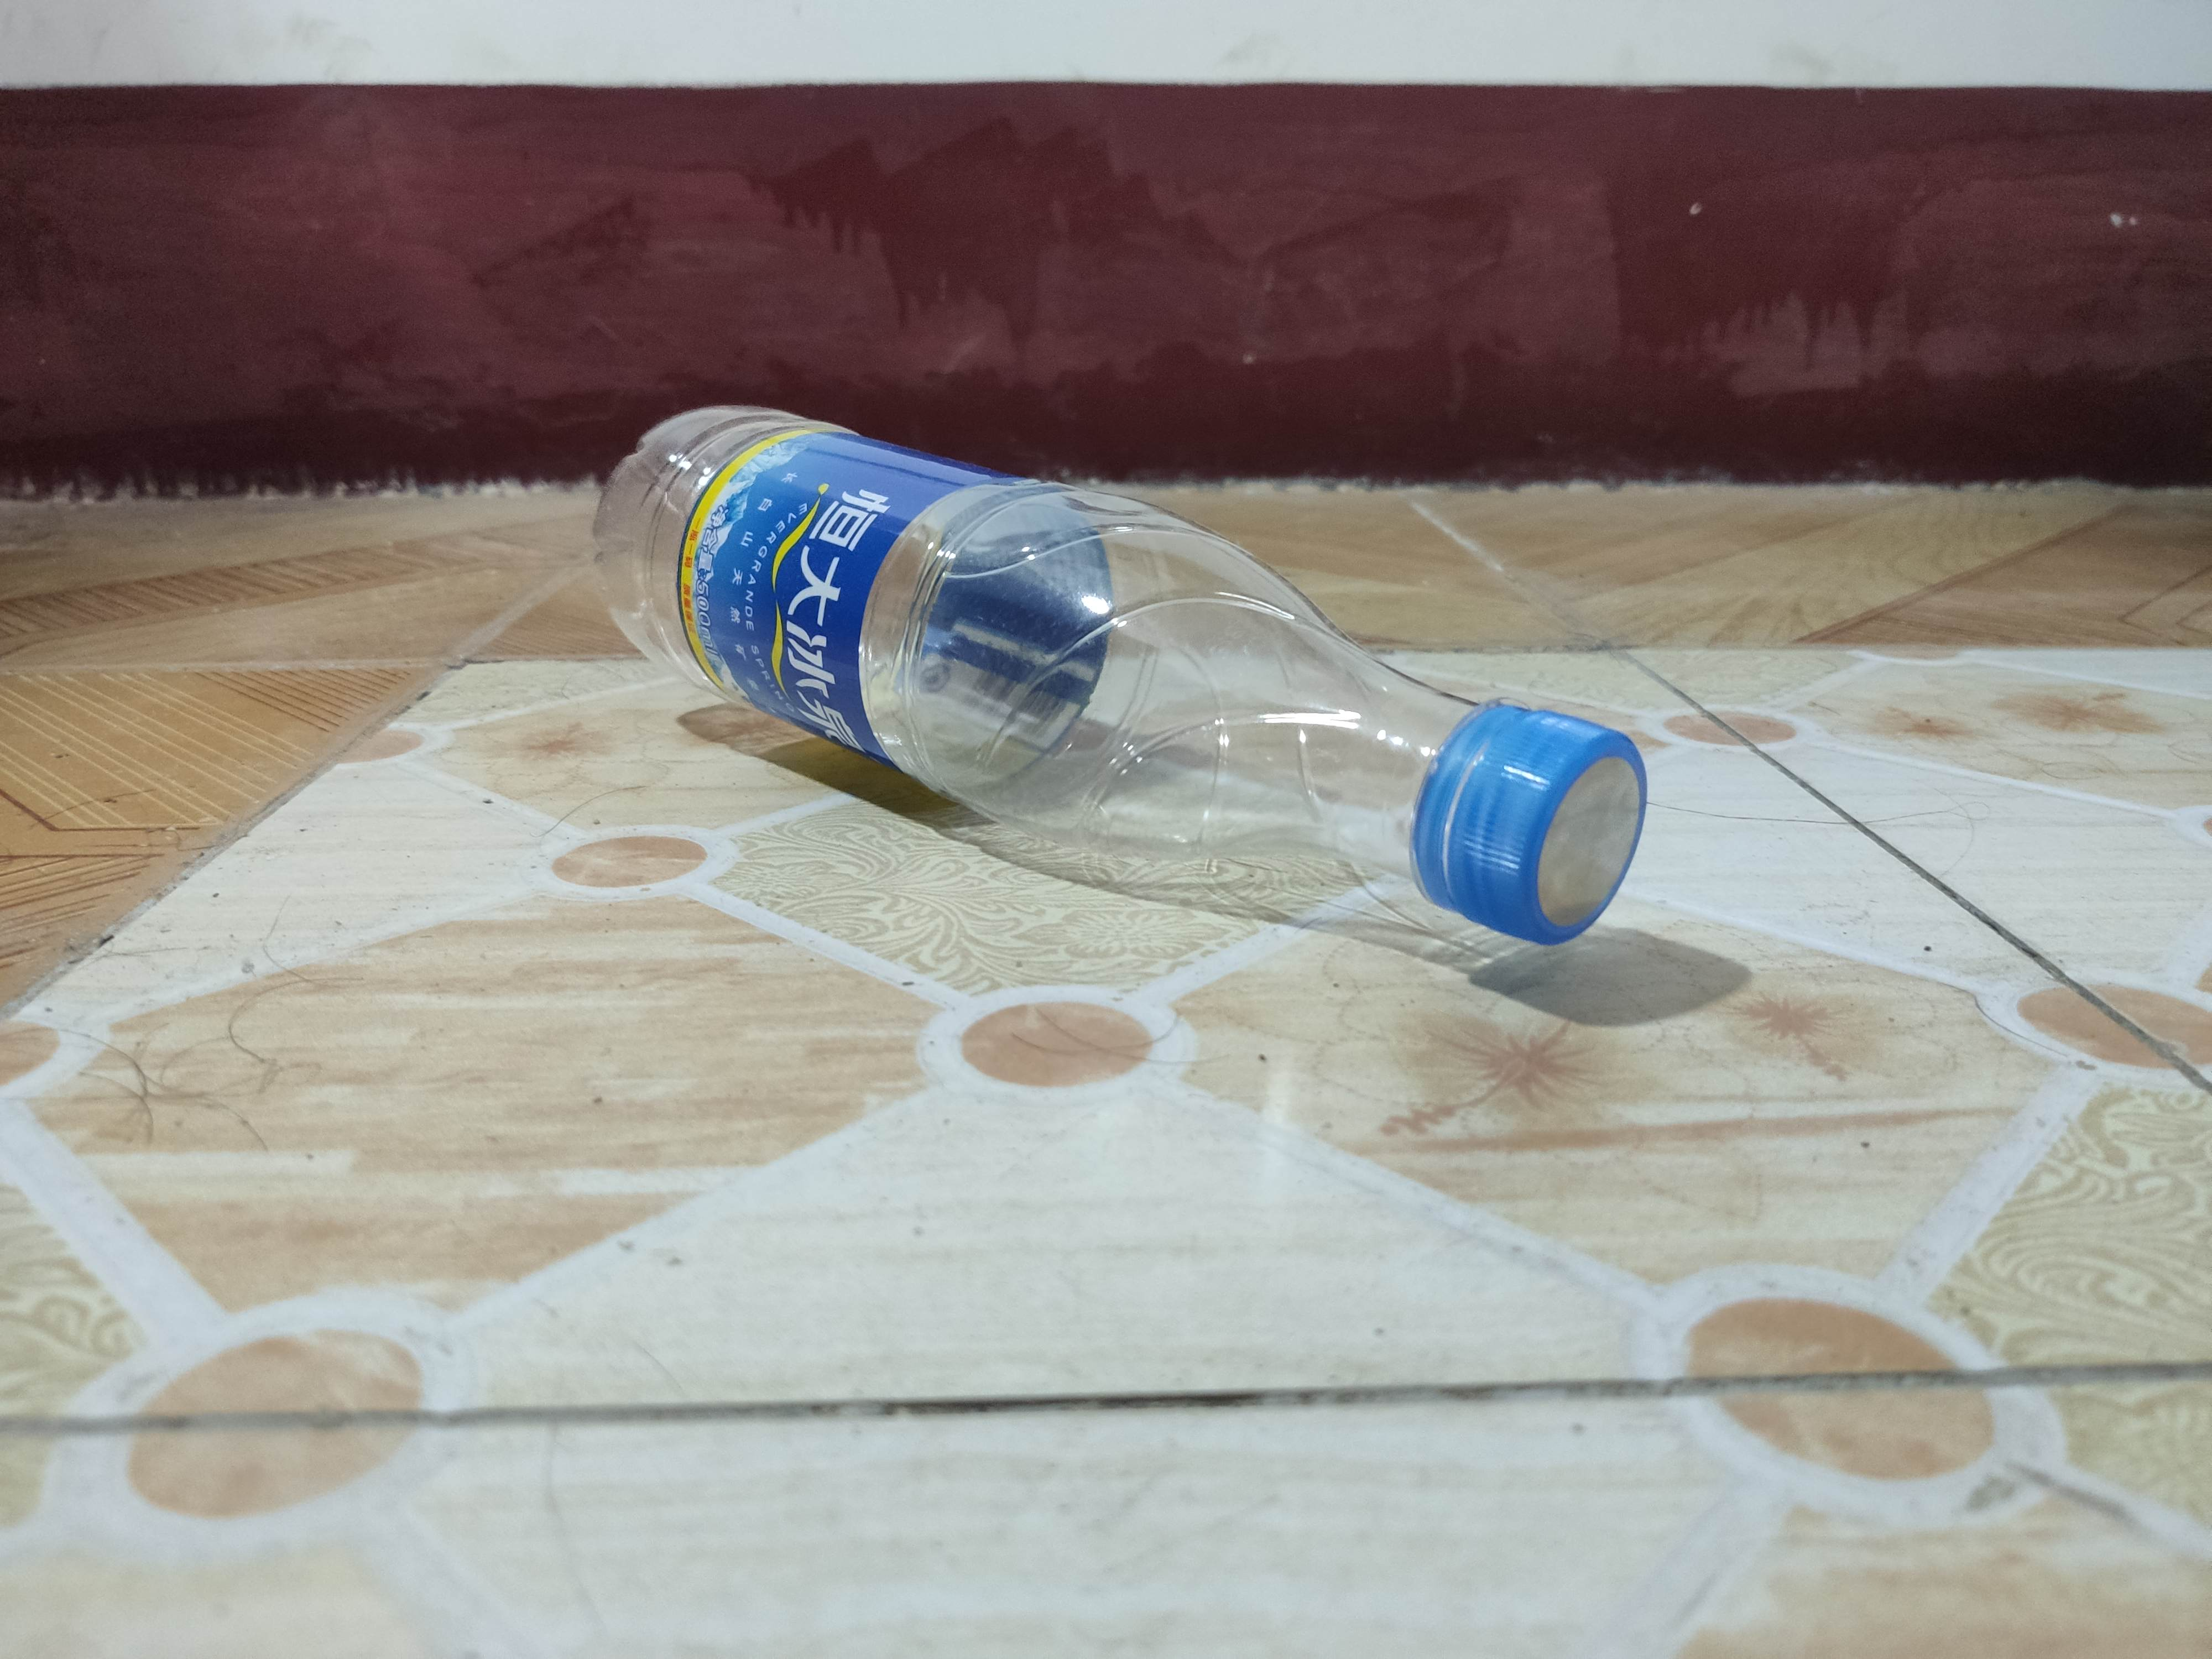Plastic Bottle: (585, 399, 1662, 964)
